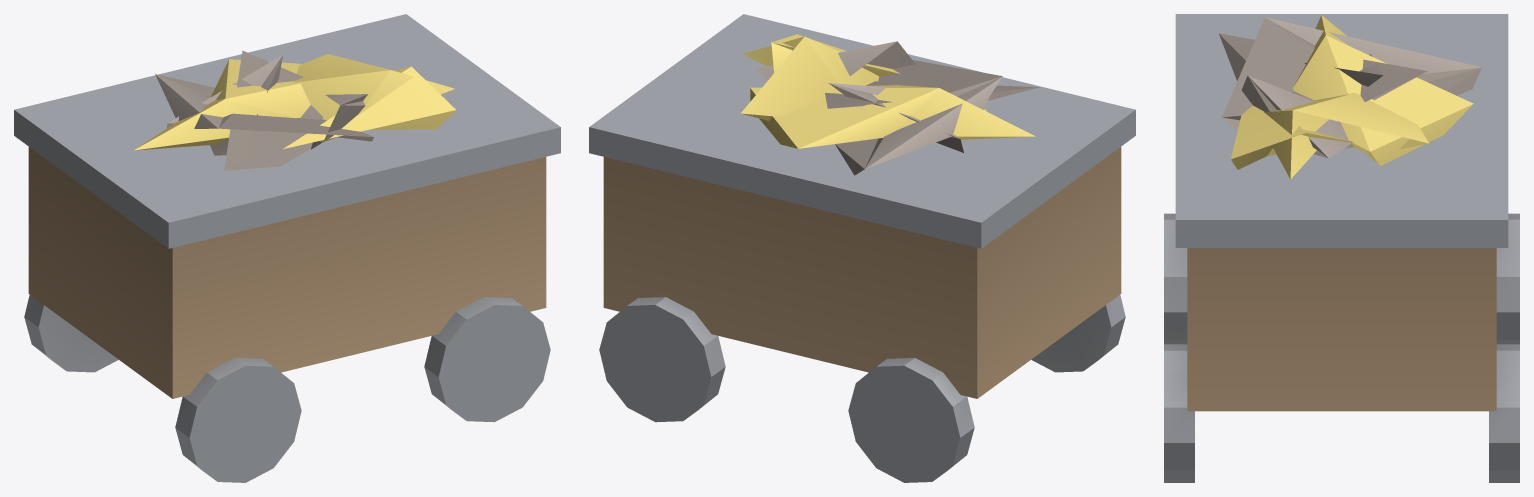
Rendered from VMineCart.fbx.
3 renders of one model, left to right at view 1: azimuth 30°, elevation 25°; view 2: azimuth 150°, elevation 25°; view 3: azimuth 270°, elevation 25°, orthographic. The views are drawn at different scales.
Visible parts, largest first — view 1: VMineCart; view 2: VMineCart; view 3: VMineCart.
Boxes of the visible parts, box(x1,y1,x2,y2) form: VMineCart: box(14, 14, 560, 482); VMineCart: box(589, 14, 1135, 482); VMineCart: box(1164, 14, 1519, 482).
Size of the model in its own units: 1.26 by 0.9811 by 0.92.
